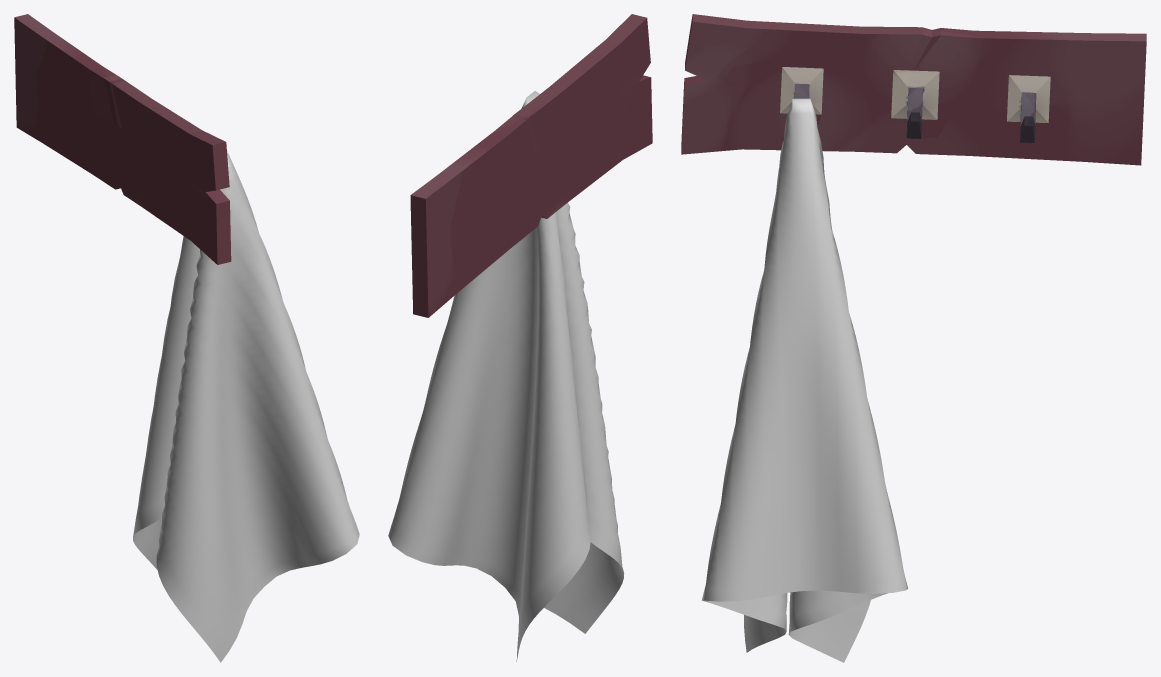
File: perchero.fbx
3 renders of one model, left to right at view 1: azimuth 30°, elevation 25°; view 2: azimuth 150°, elevation 25°; view 3: azimuth 270°, elevation 25°, orthographic. The views are drawn at different scales.
Parts seen in each view (by area): view 1: Plane, Cube.002; view 2: Plane, Cube.002; view 3: Plane, Cube.002.
Part boxes in pixels (left/top/right/bottom): Plane: left=133, top=150, right=359, bottom=662; Cube.002: left=14, top=14, right=231, bottom=264; Plane: left=388, top=91, right=624, bottom=661; Cube.002: left=410, top=14, right=652, bottom=317; Plane: left=701, top=98, right=907, bottom=662; Cube.002: left=681, top=14, right=1146, bottom=165.
Size of the model in its own units: 114 by 341 by 232.
Materials: 1 (1 with a texture image).
